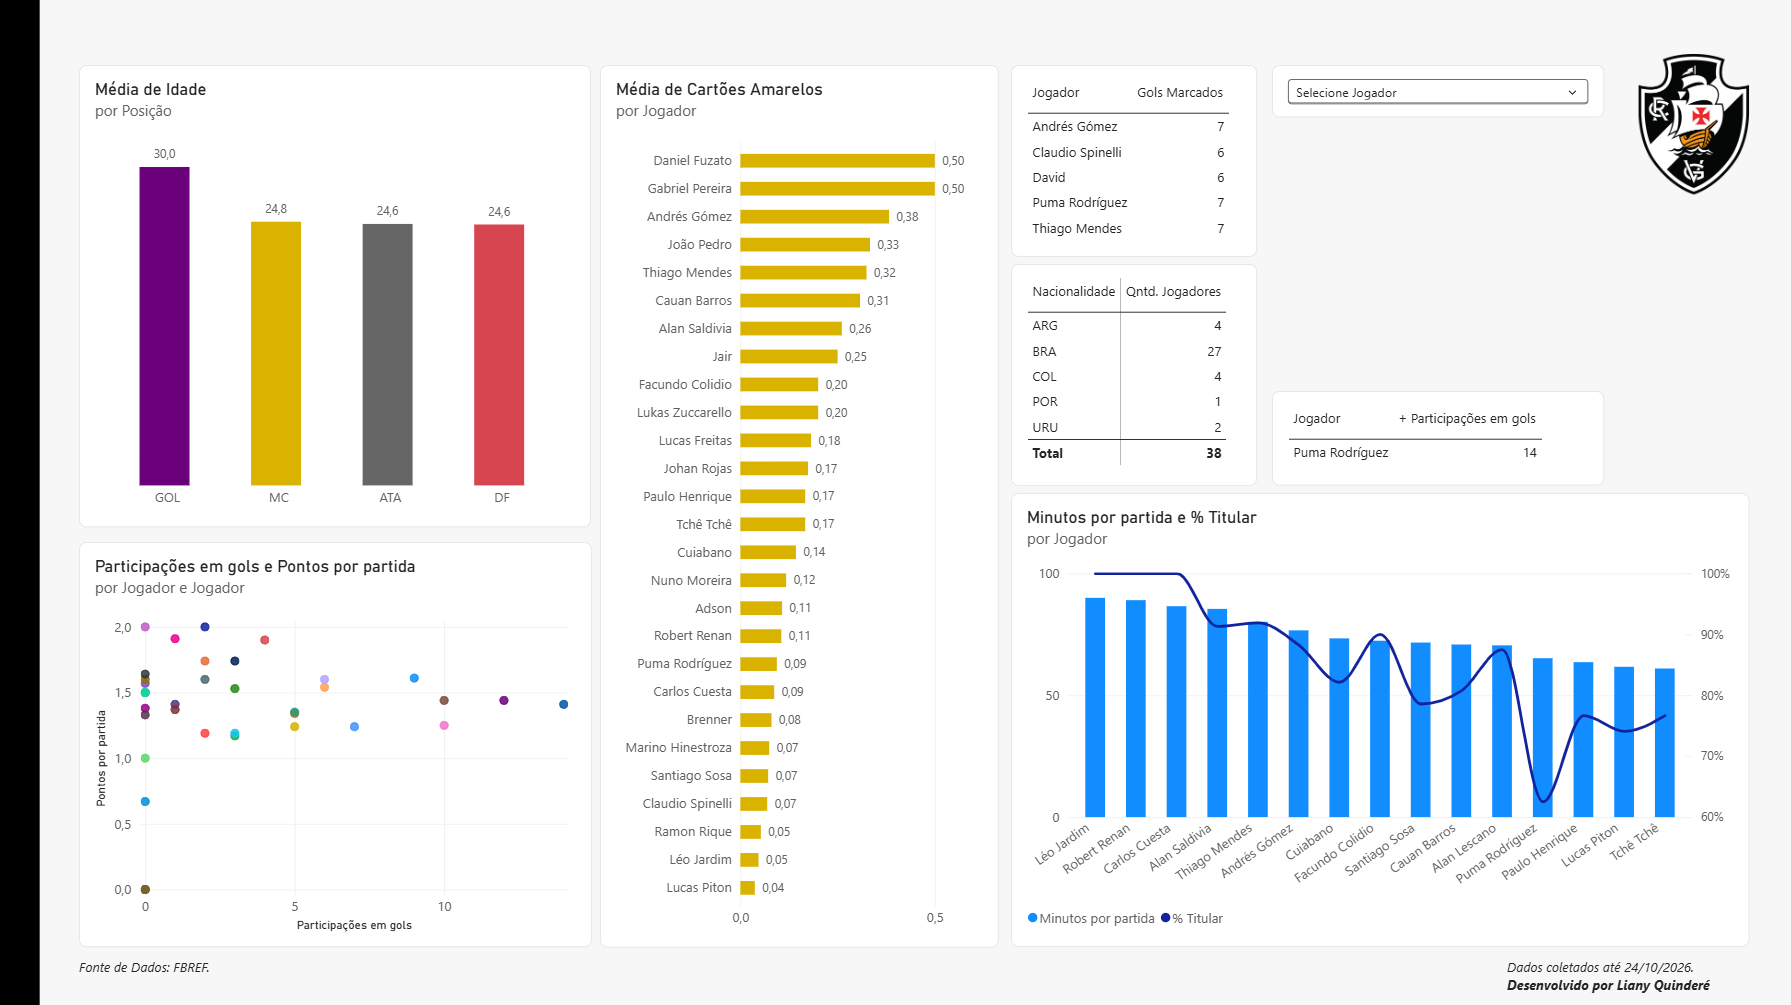

The page's visual inventory and layout, read from the dashboard file:
{"tool":"powerbi","page":{"name":"Performance Elenco","canvas":[1920,1080],"ordinal":0},"visuals":[{"type":"columnChart","fields":{"Category":["p_matches.posicao"],"Y":["p_matches.media_idade"]},"box":[86.8,71.2,546.5,494.2],"z":0},{"type":"listSlicer","fields":{"Values":["p_matches.jogador"]},"box":[1361.3,71.2,355.1,55.7],"z":1000},{"type":"barChart","fields":{"Category":["p_matches.jogador"],"Y":["p_matches.media_cartoes_amarelos"]},"box":[643.3,71.2,426.3,942.7],"z":2000},{"type":"tableEx","fields":{"Values":["p_perf.nacionalidade","p_perf.jogador"]},"box":[1081.9,283.8,262.7,237.1],"z":3000},{"type":"lineStackedColumnComboChart","fields":{"Category":["p_matches.jogador"],"Y":["p_matches.media_minutos_partida"],"Y2":["p_matches.pct_titularidade"]},"box":[1081.9,528.7,789.1,485.3],"z":4000},{"type":"tableEx","fields":{"Values":["p_perf.jogador","p_perf.gols_marcados"]},"box":[1081.9,71.2,262.7,204.8],"z":5000},{"type":"scatterChart","fields":{"Category":["p_matches.jogador"],"Series":["p_matches.jogador"],"X":["Sum(p_perf.participacoes)"],"Y":["Sum(p_matches.pontos_por_partida)"]},"box":[86.8,580.9,547.6,433],"z":6000},{"type":"image","box":[1730.8,60.1,162,150],"z":7000},{"type":"shape","box":[0,0,44.5,1079.7],"z":9000},{"type":"textbox","box":[1612.8,1026.2,228.2,44.5],"z":9001},{"type":"tableEx","fields":{"Values":["p_perf.jogador","Sum(p_perf.participacoes)"]},"box":[1361.3,419.6,355.1,101.3],"z":9002},{"type":"textbox","box":[86.5,1025.7,183.8,22.4],"z":9003}]}

Visuals, with their boxes in screenshot pixels (x1, y1, x2, y2), scaled from the page's 1920x1080 canvas onto the 1791x1005 screenshot:
columnChart - p_matches.posicao x p_matches.media_idade: 81 66 591 526
listSlicer - p_matches.jogador: 1270 66 1601 118
barChart - p_matches.jogador x p_matches.media_cartoes_amarelos: 600 66 998 943
tableEx - p_perf.nacionalidade x p_perf.jogador: 1009 264 1254 485
lineStackedColumnComboChart - p_matches.jogador x p_matches.media_minutos_partida: 1009 492 1745 944
tableEx - p_perf.jogador x p_perf.gols_marcados: 1009 66 1254 257
scatterChart - p_matches.jogador x p_matches.jogador: 81 541 592 943
image: 1615 56 1766 196
shape: 0 0 42 1004
textbox: 1504 955 1717 996
tableEx - p_perf.jogador x Sum(p_perf.participacoes): 1270 390 1601 485
textbox: 81 954 252 975
